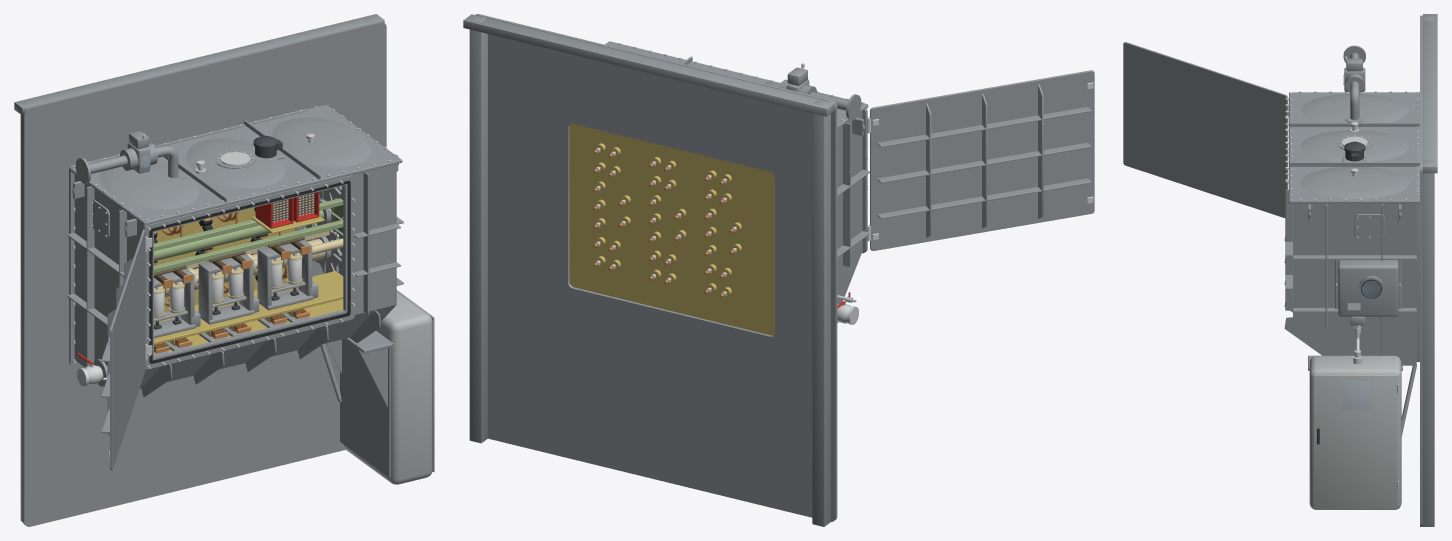
Rendered from hwv.glb.
3 renders of one model, left to right at view 1: azimuth 30°, elevation 25°; view 2: azimuth 150°, elevation 25°; view 3: azimuth 270°, elevation 25°, orthographic. The views are drawn at different scales.
Parts seen in each view (by area): view 1: tank, ot-box, ot-top, mdu, ot-door, hwv-frame, hwv-diverter, vi, resistor, ot-terminal, pipe-r, hwv-main (+8 smaller); view 2: tank, ot-terminal, ot-door, ot-box, ot-top; view 3: ot-door, ot-box, mdu, ot-top, tank, hwv-drive, pipe-r, relay, ot-prv.
Boxes of the visible parts, box(x1,y1,x2,y2) form: tank: box(14, 14, 386, 526); ot-box: box(67, 109, 403, 397); ot-top: box(69, 104, 402, 225); mdu: box(320, 290, 434, 484); ot-door: box(101, 229, 152, 470); hwv-frame: box(154, 189, 343, 352); hwv-diverter: box(154, 240, 318, 338); vi: box(154, 252, 302, 329); resistor: box(251, 192, 324, 245); ot-terminal: box(154, 207, 295, 312); pipe-r: box(75, 143, 185, 183); hwv-main: box(154, 308, 309, 355); tank: box(463, 14, 837, 526); ot-terminal: box(569, 123, 774, 335); ot-door: box(867, 70, 1094, 250); ot-box: box(837, 107, 869, 300); ot-top: box(604, 41, 868, 128); ot-door: box(1123, 42, 1288, 217); ot-box: box(1284, 92, 1419, 365); mdu: box(1308, 355, 1416, 509); ot-top: box(1289, 91, 1419, 203); tank: box(1420, 14, 1437, 526); hwv-drive: box(1335, 255, 1401, 325); pipe-r: box(1343, 45, 1365, 122); relay: box(1343, 56, 1365, 91); ot-prv: box(1342, 141, 1366, 162).
Bounding box in the file's own units: 2.98 × 2.65 × 2.08.
